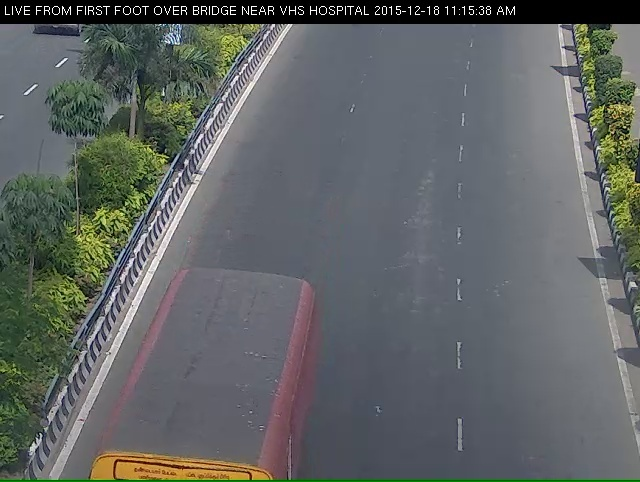Bus: (115, 298, 307, 481)
